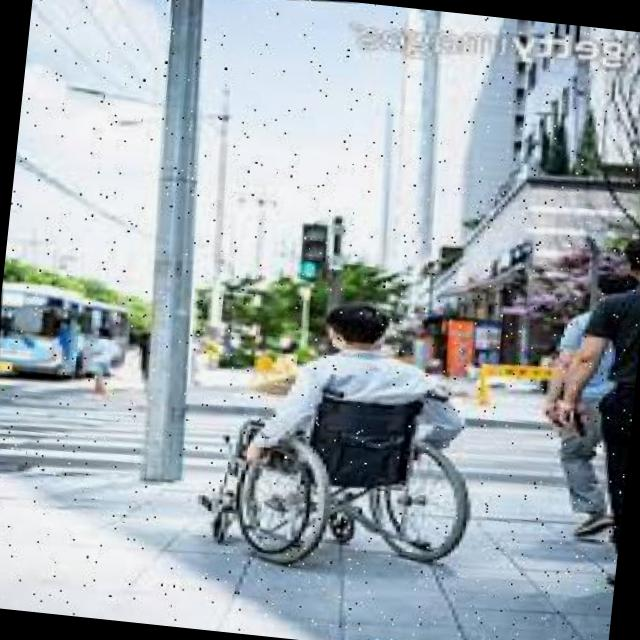Person: (182, 276, 486, 585)
